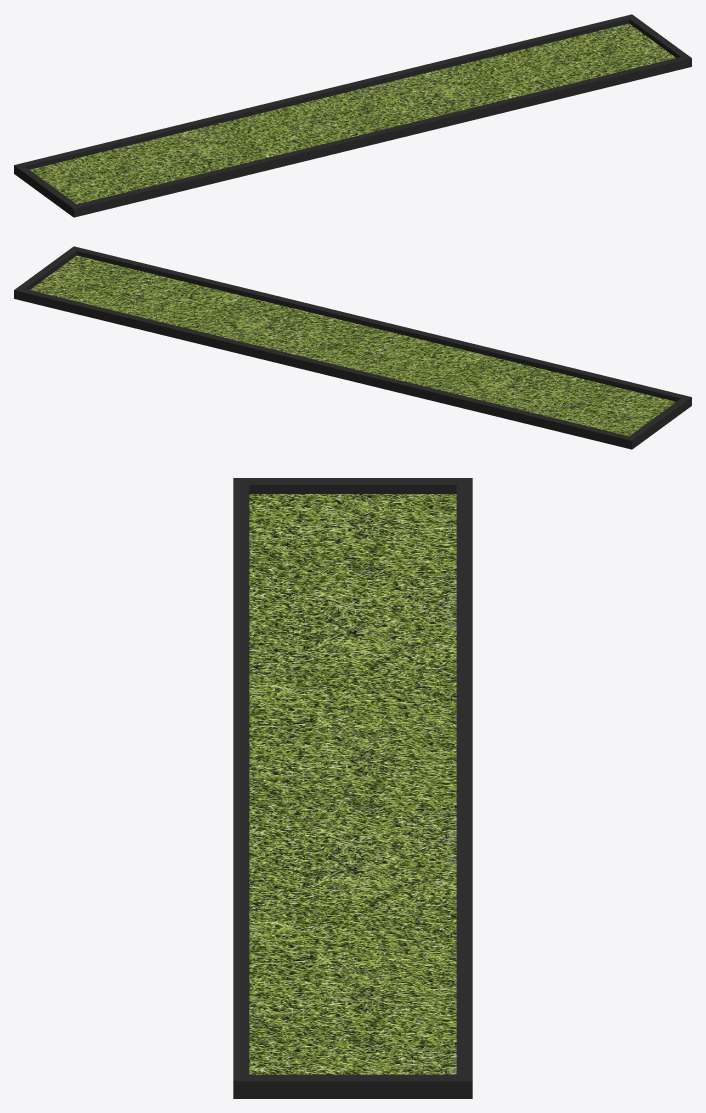
File: ground_2.FBX
3 renders of one model, top to bottom at view 1: azimuth 30°, elevation 25°; view 2: azimuth 150°, elevation 25°; view 3: azimuth 270°, elevation 25°, orthographic. The views are drawn at different scales.
Parts seen in each view (by area): view 1: Box002; view 2: Box002; view 3: Box002.
Part boxes in pixels (left/top/right/bottom): Box002: left=14, top=14, right=691, bottom=217; Box002: left=14, top=246, right=691, bottom=449; Box002: left=233, top=478, right=472, bottom=1098.
Bounding box in the file's own units: 249 × 3.36 × 41.78.
Materials: 2 (1 with a texture image).
